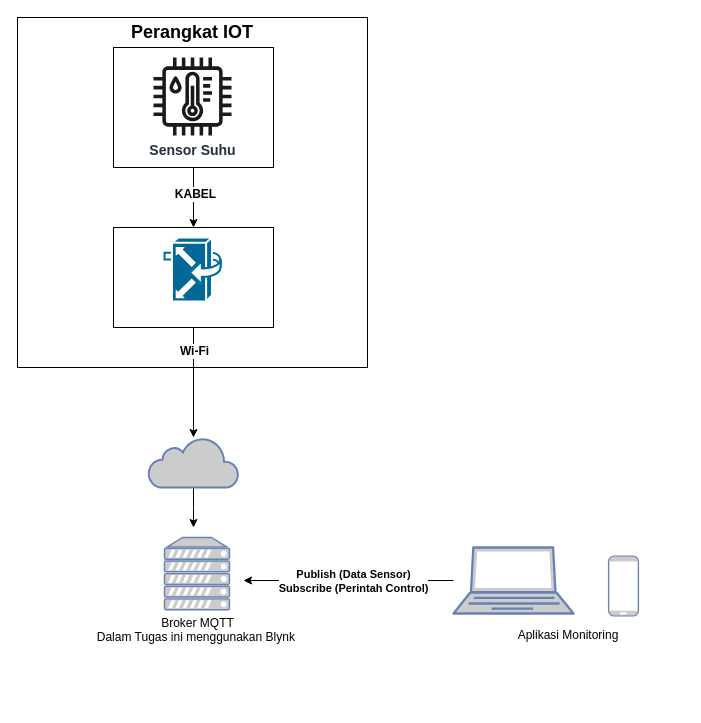
Some shapes in this 701 by 723 pixel diagram are drawn without their labels. The centre of each missing label's shape, as x and y in pixels:
"ESP 32" belongs at (192,269).
"Internet" belongs at (193,462).
